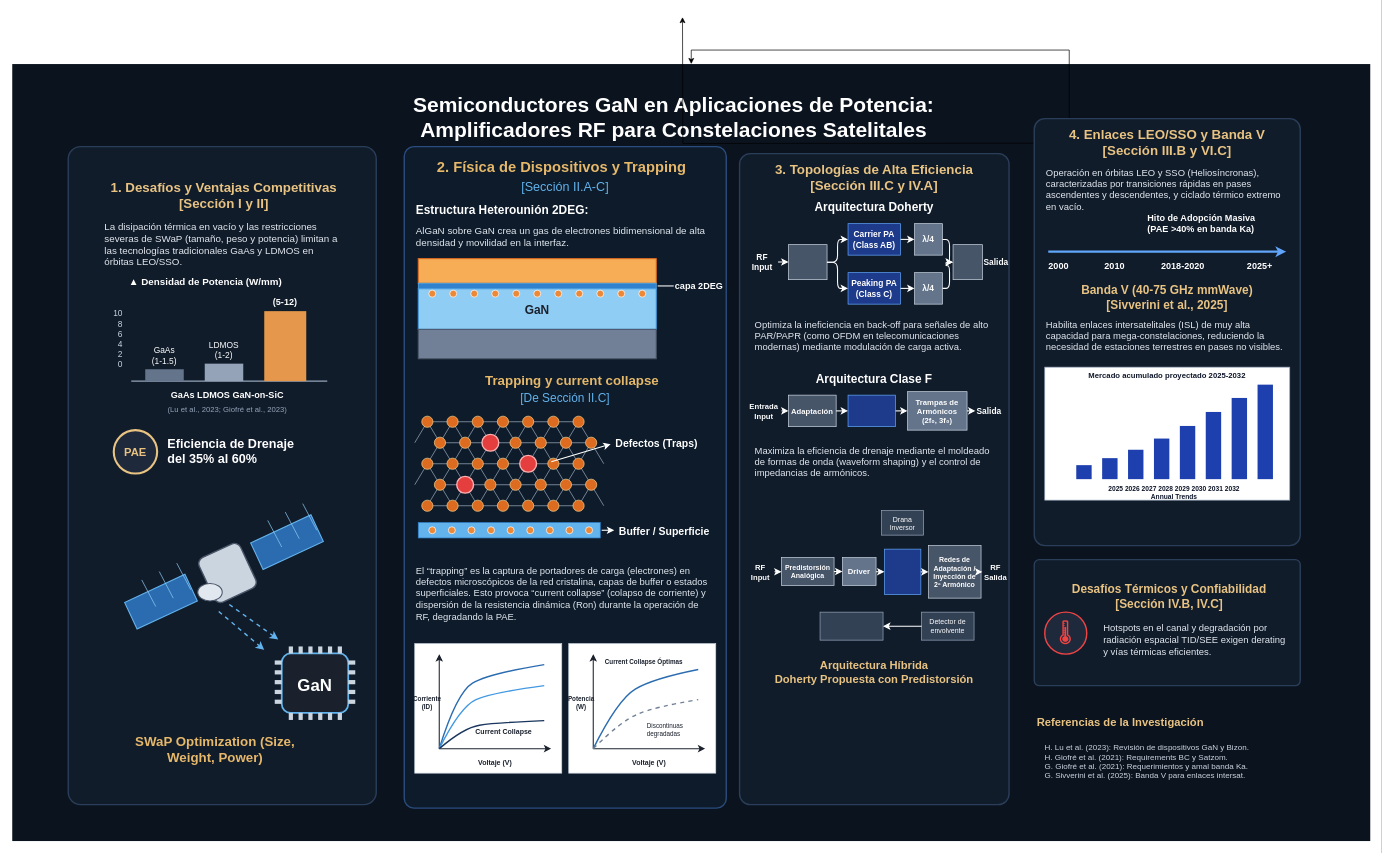
This 1382x853 diagram has some shape labels left out. The shapes that lost their labels are listed below. From the top down, each one's box as (x1, y1, x2, y2) in pixels, then its label:
(417, 258, 656, 283): AlGaN
(788, 244, 827, 280): Divisor
(952, 244, 982, 280): Combi nador
(417, 329, 656, 359): sustrato de SiC
(847, 394, 896, 427): GaN PA Class-F
(884, 548, 921, 595): Etapas GaN HEMT
(819, 611, 883, 640): Lazo inferior de control de bias
